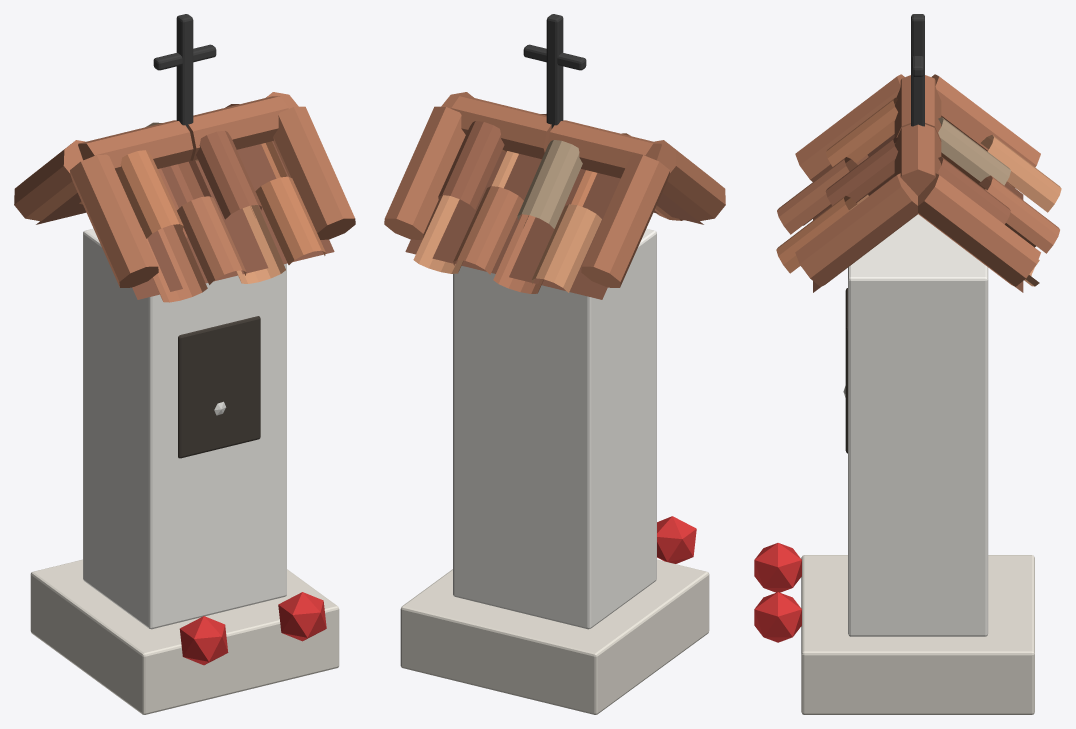
File: WaysideShrine.fbx
3 views of the same model, side by side, from view 1: azimuth 30°, elevation 25°; view 2: azimuth 150°, elevation 25°; view 3: azimuth 270°, elevation 25° (orthographic). The views are drawn at different scales.
Parts seen in each view (by area): view 1: WaysideShrine; view 2: WaysideShrine; view 3: WaysideShrine.
Boxes of the visible parts, x1,y1,x2,y2 form: WaysideShrine: [14, 14, 355, 714]; WaysideShrine: [384, 14, 725, 714]; WaysideShrine: [754, 14, 1061, 714].
Size of the model in its own units: 1.2 by 3.08 by 1.32.
